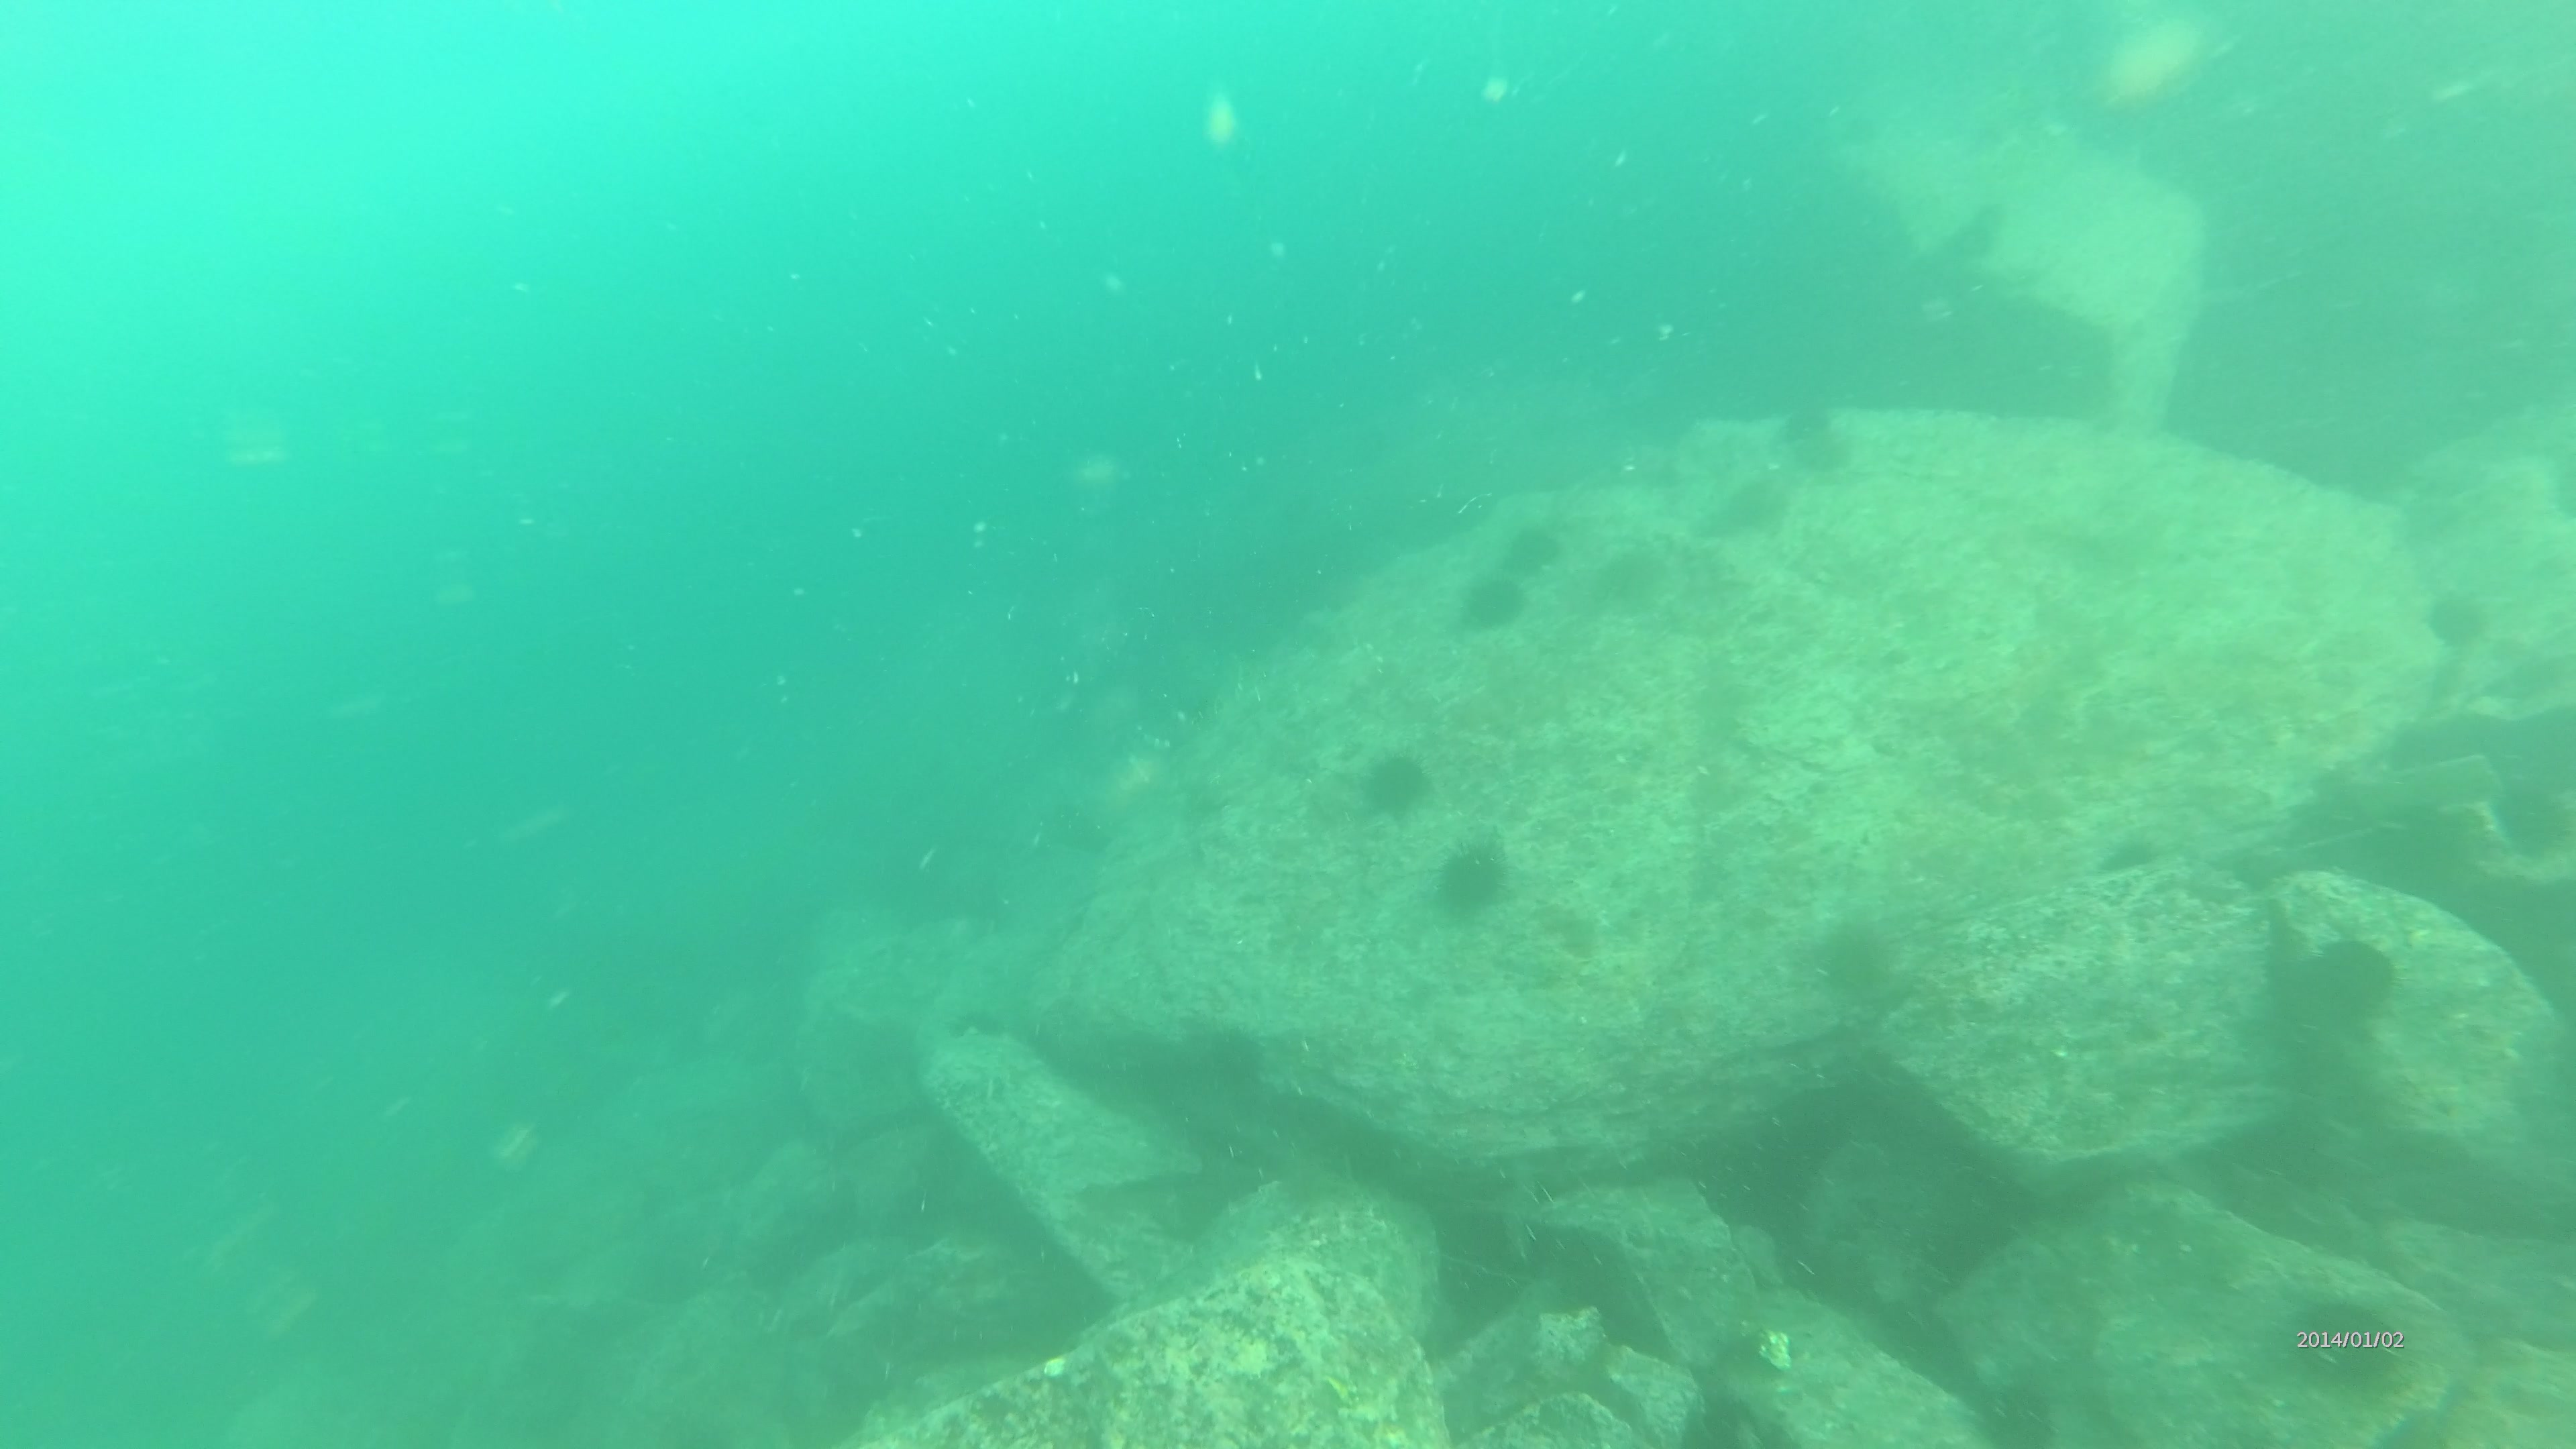echinus: (2284, 1292, 2419, 1392), (2300, 922, 2404, 1030), (1438, 832, 1522, 931), (1780, 386, 1865, 478), (1821, 922, 1902, 1007), (1575, 541, 1663, 616), (2427, 577, 2500, 662), (1449, 568, 1534, 639), (1357, 743, 1433, 814), (1499, 517, 1560, 579)
